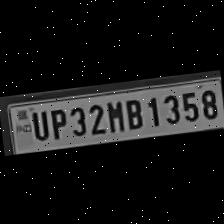1: (141, 91, 163, 127)
2: (84, 99, 106, 136)
3: (64, 101, 86, 138), (159, 89, 181, 125)
5: (176, 86, 199, 122)
8: (196, 84, 219, 120)
B: (120, 92, 144, 130)
M: (102, 96, 125, 134)
P: (46, 104, 68, 140)
U: (27, 105, 49, 141)
